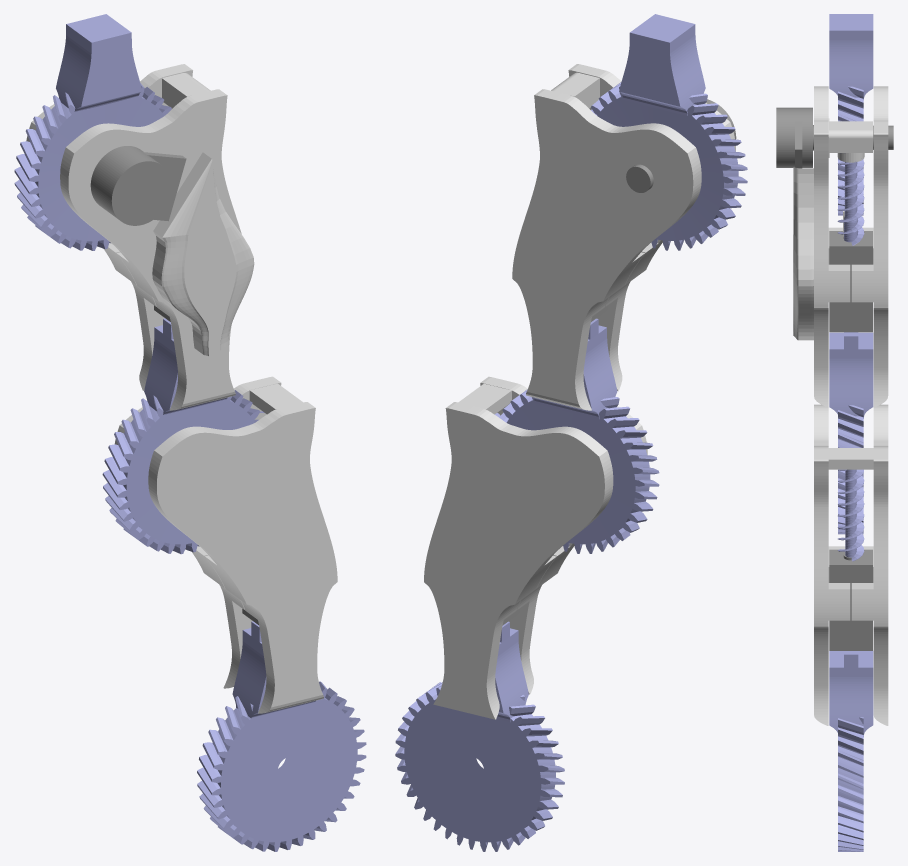
The model's file is manipulator_hand.glb.
The picture shows the model from 3 angles, left to right: view 1: azimuth 30°, elevation 25°; view 2: azimuth 150°, elevation 25°; view 3: azimuth 270°, elevation 25°; orthographic projection. The views are drawn at different scales.
Visible parts, largest first — view 1: Куб.010, Gear.003, Куб.007, Куб, Gear.002, Gear.001, Куб.006, Потенциометр.001, Куб.003, Куб.045, Куб.015, Куб.016 (+2 smaller); view 2: Куб.016, Куб.015, Gear.003, Gear.002, Gear.001, Куб.006, Куб.003, Куб.045, Куб.007, Куб.010, Куб.014, Куб.013 (+1 smaller); view 3: Куб.015, Куб.016, Куб.007, Куб.010, Куб, Куб.003, Куб.006, Gear.003, Куб.045, Мотор.002, Мотор.001, Потенциометр.001 (+10 smaller).
Boxes of the visible parts, x1,y1,x2,y2 form: Куб.010: [148, 402, 337, 713]; Gear.003: [197, 681, 366, 851]; Куб.007: [60, 89, 241, 410]; Куб: [152, 152, 254, 355]; Gear.002: [102, 390, 260, 554]; Gear.001: [14, 83, 171, 250]; Куб.006: [56, 14, 142, 111]; Потенциометр.001: [90, 146, 186, 225]; Куб.003: [144, 318, 227, 414]; Куб.045: [232, 621, 315, 718]; Куб.015: [26, 64, 192, 390]; Куб.016: [114, 376, 281, 688]; Куб.016: [424, 402, 613, 719]; Куб.015: [512, 89, 701, 410]; Gear.003: [395, 682, 564, 851]; Gear.002: [499, 389, 659, 553]; Gear.001: [591, 82, 747, 250]; Куб.006: [619, 14, 705, 115]; Куб.003: [534, 318, 617, 419]; Куб.045: [495, 621, 528, 722]; Куб.007: [568, 64, 735, 390]; Куб.010: [480, 376, 647, 694]; Куб.014: [551, 72, 599, 108]; Куб.013: [458, 383, 511, 414]; Куб.015: [873, 86, 888, 407]; Куб.016: [873, 404, 888, 725]; Куб.007: [814, 86, 828, 407]; Куб.010: [814, 404, 828, 725]; Куб: [793, 167, 813, 340]; Куб.003: [829, 332, 873, 418]; Куб.006: [829, 14, 873, 99]; Gear.003: [838, 717, 863, 851]; Куб.045: [829, 651, 873, 736]; Мотор.002: [829, 549, 872, 650]; Мотор.001: [829, 231, 872, 332]; Потенциометр.001: [776, 107, 893, 168].
Size of the model in its own units: 92.52 by 226 by 32.14.
